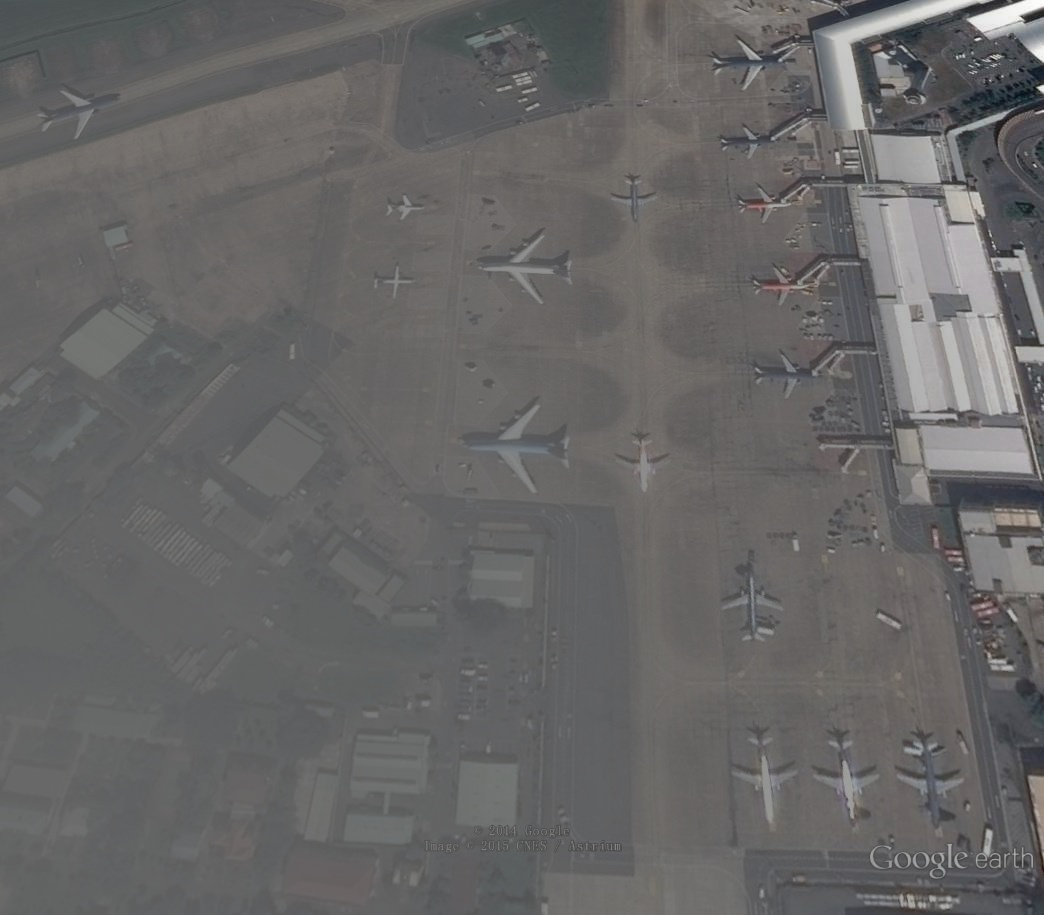aircraft: (457, 399, 579, 501), (472, 229, 576, 312), (726, 729, 804, 832), (810, 733, 886, 838), (894, 736, 972, 834), (706, 37, 808, 96), (34, 85, 124, 148), (720, 573, 787, 648), (748, 351, 831, 405), (613, 429, 675, 496), (717, 115, 795, 166), (735, 181, 802, 229), (750, 264, 816, 310), (609, 172, 663, 223), (367, 261, 421, 306), (379, 190, 427, 229)
